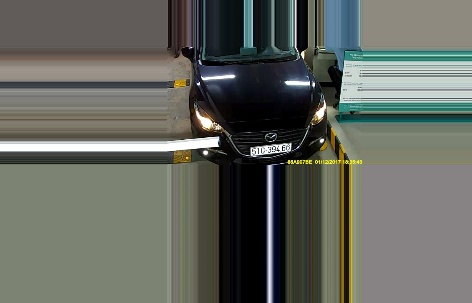plate: (246, 142, 293, 158)
